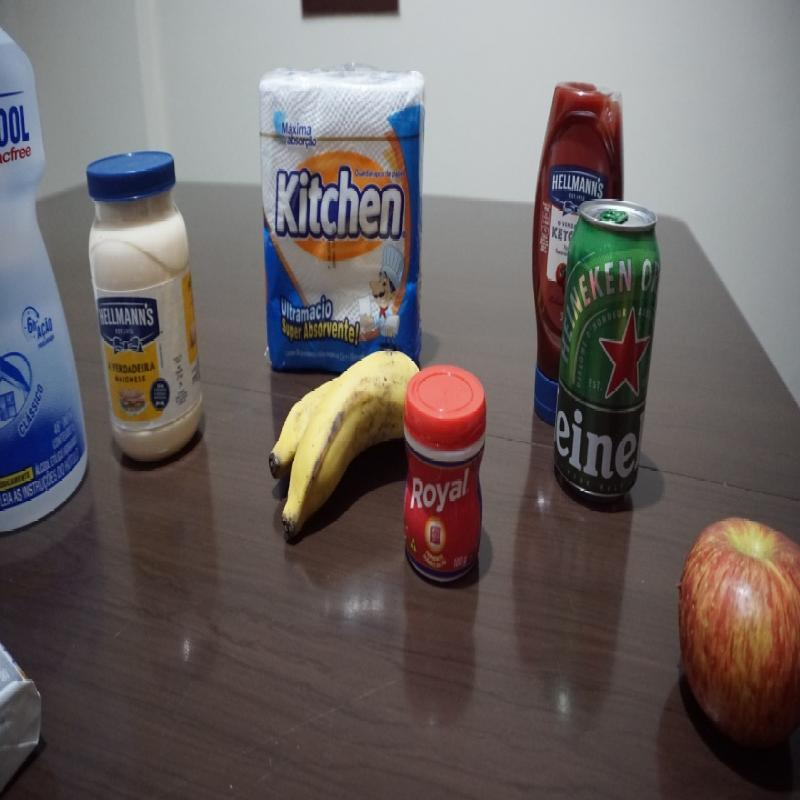Alcohol Bottle: (0, 30, 86, 521)
Apple: (673, 514, 796, 745)
Banana: (271, 345, 400, 533)
Beer can: (567, 208, 653, 490)
Ketchup: (531, 72, 626, 194)
Mayonnaise: (87, 149, 204, 464)
Napkin: (259, 57, 427, 340)
Yeast: (404, 368, 486, 587)
